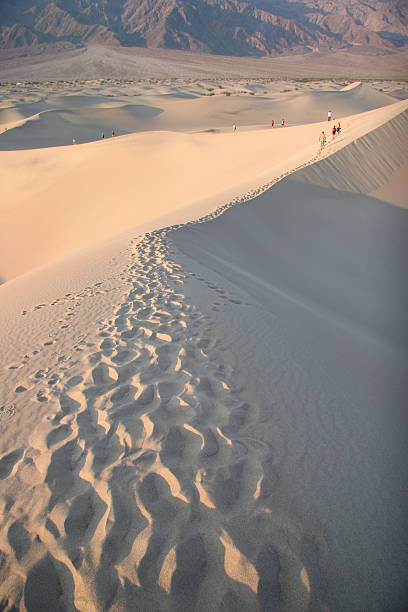human_footprint: (1, 231, 293, 609)
